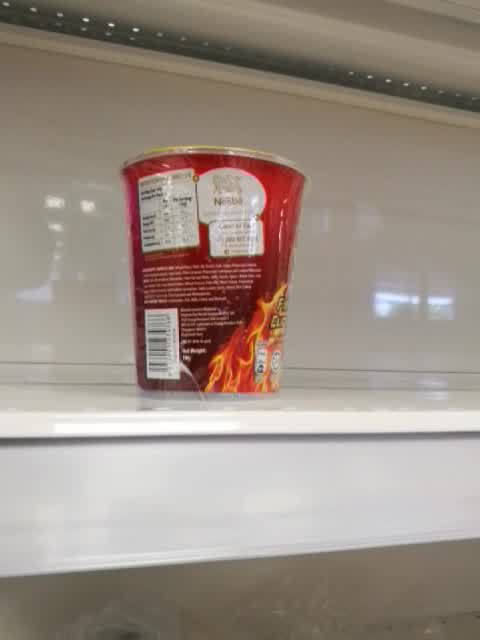maggi: (120, 145, 312, 401)
